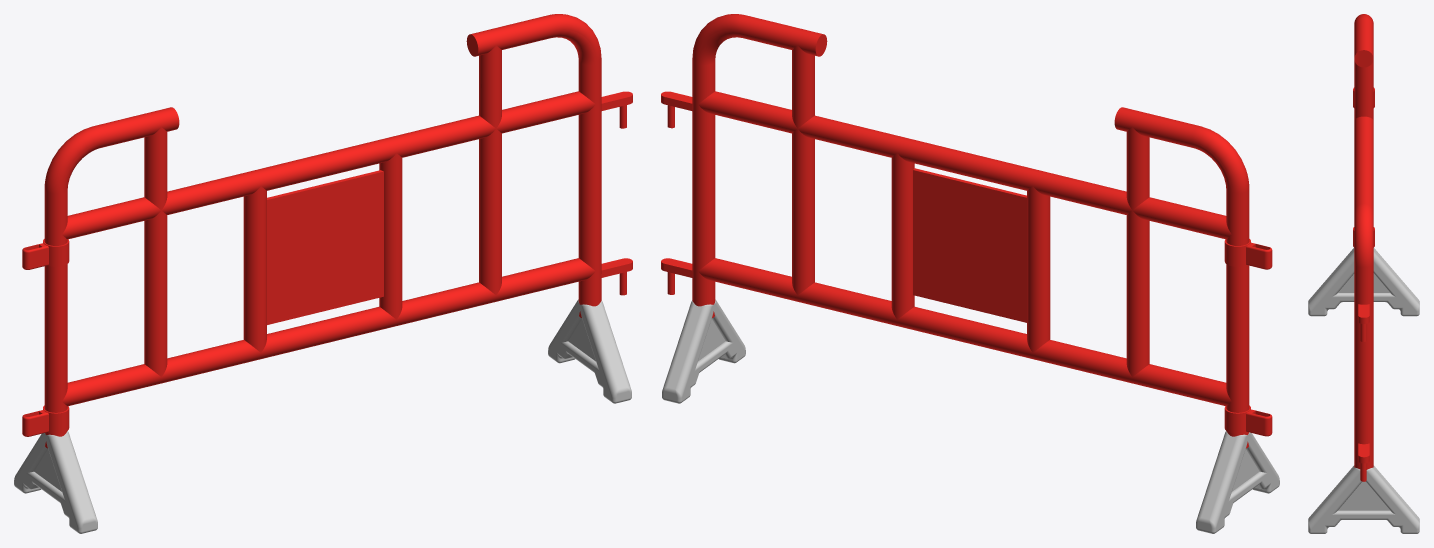
The model's file is RoadBlock.fbx.
3 renders of one model, left to right at view 1: azimuth 30°, elevation 25°; view 2: azimuth 150°, elevation 25°; view 3: azimuth 270°, elevation 25°, orthographic. The views are drawn at different scales.
Parts seen in each view (by area): view 1: Body36, Body5, Body13, Body11, Body18, Body31; view 2: Body36, Body5, Body13, Body11, Body18, Body31; view 3: Body36, Body13, Body11, Body34, Body14.
Boxes of the visible parts, x1=… form: Body36: x1=44, y1=14, x2=601, y2=448; Body5: x1=267, y1=170, x2=383, y2=324; Body13: x1=548, y1=299, x2=631, y2=403; Body11: x1=14, y1=431, x2=97, y2=533; Body18: x1=22, y1=405, x2=69, y2=436; Body31: x1=22, y1=239, x2=69, y2=269; Body36: x1=692, y1=14, x2=1249, y2=448; Body5: x1=913, y1=168, x2=1026, y2=322; Body13: x1=662, y1=299, x2=745, y2=403; Body11: x1=1196, y1=431, x2=1279, y2=533; Body18: x1=1224, y1=405, x2=1272, y2=436; Body31: x1=1224, y1=239, x2=1272, y2=269; Body36: x1=1354, y1=14, x2=1373, y2=481; Body13: x1=1308, y1=465, x2=1419, y2=533; Body11: x1=1308, y1=248, x2=1419, y2=316; Body34: x1=1358, y1=304, x2=1369, y2=341; Body14: x1=1358, y1=443, x2=1369, y2=481.
Size of the model in its own units: 115 by 67.09 by 21.8.
